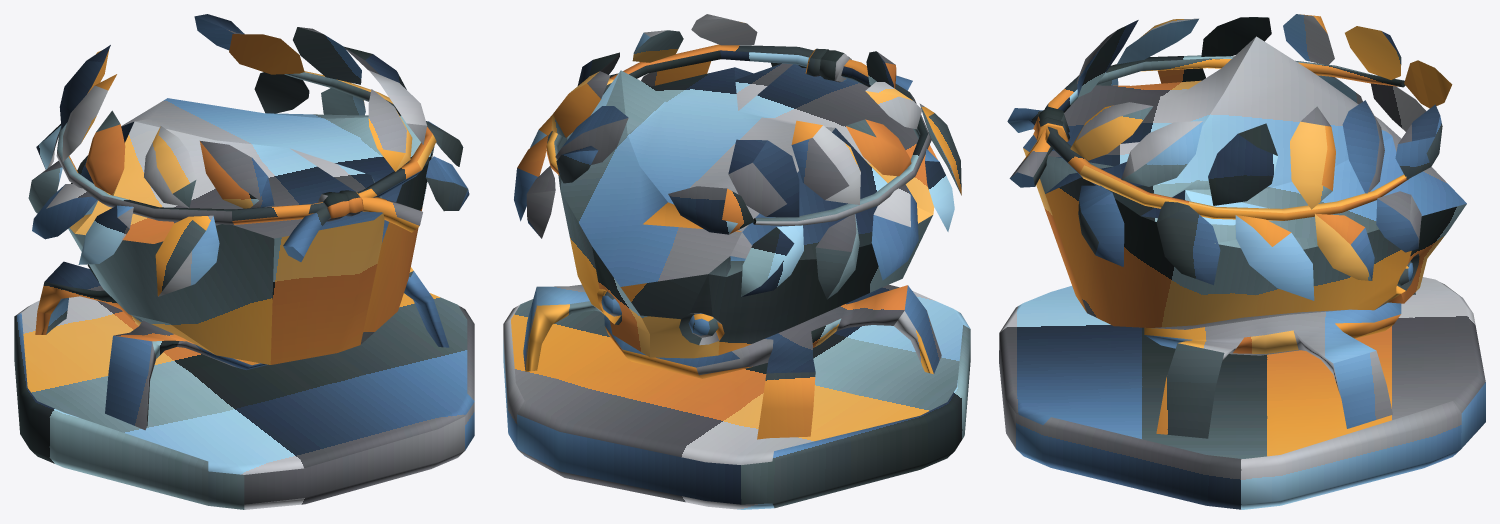
Rendered from CharSkyKid_Prop_CrabOfCompetition_Gold.glb.
3 renders of one model, left to right at view 1: azimuth 30°, elevation 25°; view 2: azimuth 150°, elevation 25°; view 3: azimuth 270°, elevation 25°, orthographic. The views are drawn at different scales.
Parts seen in each view (by area): view 1: CharSkyKid_Prop_CrabOfCompetition_Gold; view 2: CharSkyKid_Prop_CrabOfCompetition_Gold; view 3: CharSkyKid_Prop_CrabOfCompetition_Gold.
Boxes of the visible parts, x1,y1,x2,y2 form: CharSkyKid_Prop_CrabOfCompetition_Gold: (14,14,474,509); CharSkyKid_Prop_CrabOfCompetition_Gold: (503,14,970,509); CharSkyKid_Prop_CrabOfCompetition_Gold: (999,14,1485,509).
Bounding box in the file's own units: 0.3197 × 0.2324 × 0.3004.
Materials: 1 (1 with a texture image).
